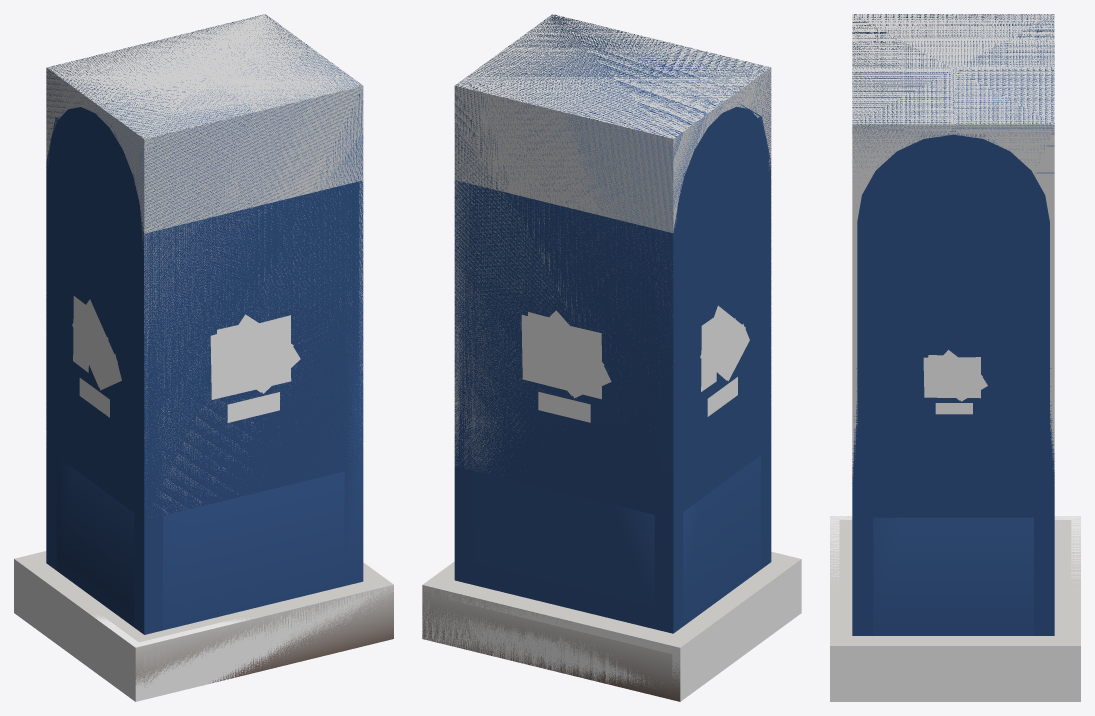
The model's file is clutter_city_post.dae.
3 renders of one model, left to right at view 1: azimuth 30°, elevation 25°; view 2: azimuth 150°, elevation 25°; view 3: azimuth 270°, elevation 25°, orthographic. The views are drawn at different scales.
Visible parts, largest first — view 1: clutter_city_post_a350, Colmesh-1, clutter_city_post_a11, clutter_city_post_a100, clutter_city_post_a50; view 2: clutter_city_post_a350, Colmesh-1, clutter_city_post_a100, clutter_city_post_a11, clutter_city_post_a50; view 3: clutter_city_post_a350, Colmesh-1, clutter_city_post_a11, clutter_city_post_a100, clutter_city_post_a50.
Part boxes in pixels (box(x1,y1,x2,y2)): clutter_city_post_a350: box(32, 107, 380, 687); Colmesh-1: box(14, 14, 393, 701); clutter_city_post_a11: box(46, 14, 363, 513); clutter_city_post_a100: box(14, 117, 393, 685); clutter_city_post_a50: box(46, 162, 363, 513); clutter_city_post_a350: box(430, 106, 788, 691); Colmesh-1: box(422, 14, 801, 701); clutter_city_post_a100: box(422, 102, 800, 701); clutter_city_post_a11: box(454, 14, 771, 475); clutter_city_post_a50: box(454, 162, 771, 474); clutter_city_post_a350: box(839, 134, 1071, 641); Colmesh-1: box(830, 14, 1080, 701); clutter_city_post_a11: box(852, 14, 1054, 476); clutter_city_post_a100: box(830, 134, 1080, 645); clutter_city_post_a50: box(923, 130, 980, 398).
Bounding box in the file's own units: 0.8102 × 0.6602 × 1.65.
